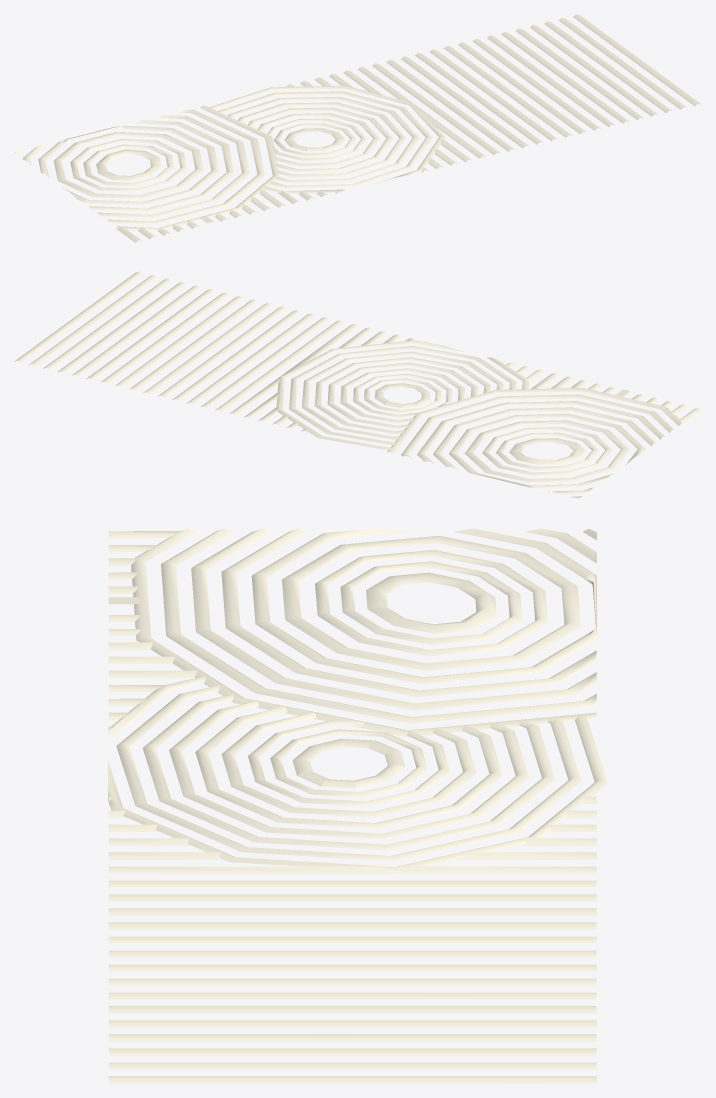
The model's file is StoneFloorPattern_03.fbx.
3 renders of one model, top to bottom at view 1: azimuth 30°, elevation 25°; view 2: azimuth 150°, elevation 25°; view 3: azimuth 270°, elevation 25°, orthographic. The views are drawn at different scales.
Visible parts, largest first — view 1: FloorPattern_03; view 2: FloorPattern_03; view 3: FloorPattern_03.
Boxes of the visible parts, x1,y1,x2,y2 form: FloorPattern_03: (14, 14, 701, 242); FloorPattern_03: (14, 271, 701, 499); FloorPattern_03: (108, 528, 607, 1083).
Size of the model in its own units: 3829 by 22.52 by 1464.
